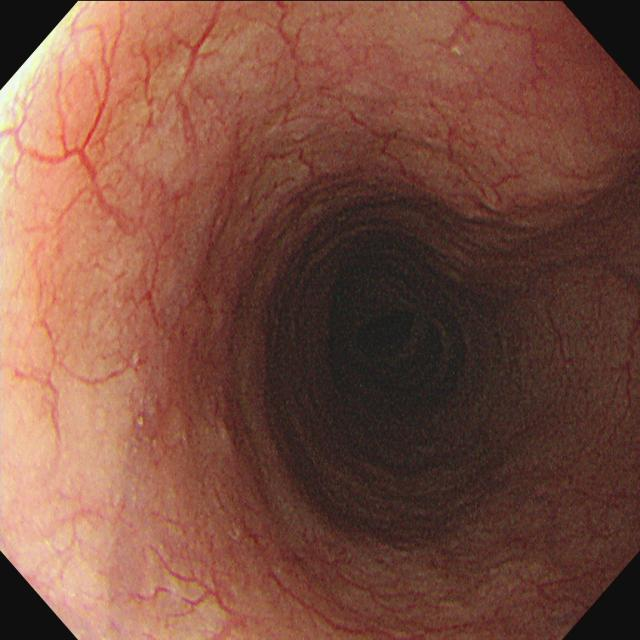E: (319, 267, 463, 425)
